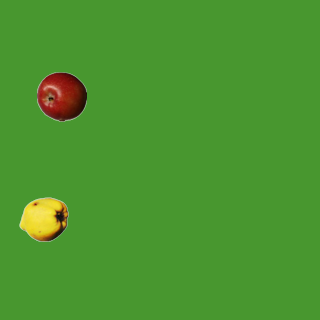Apple Braeburn: (36, 71, 86, 121)
Quince: (18, 194, 68, 244)
